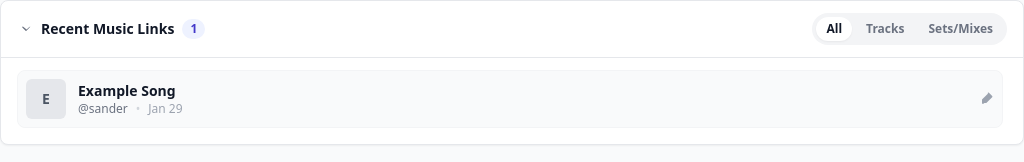
MusicLinksContainer › collapses the list when the header is clicked
The image size is (1024, 162).
What coordinates should you click on to do the following:
click the button "Recent Music Links 1"
I would click on:
 (111, 29)
Its box is x1=17 y1=19 x2=205 y2=39.
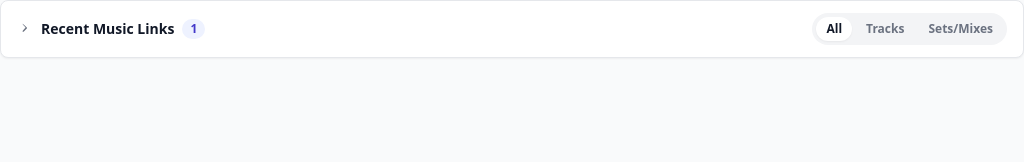
Expected: the link "Example Song" is gone
